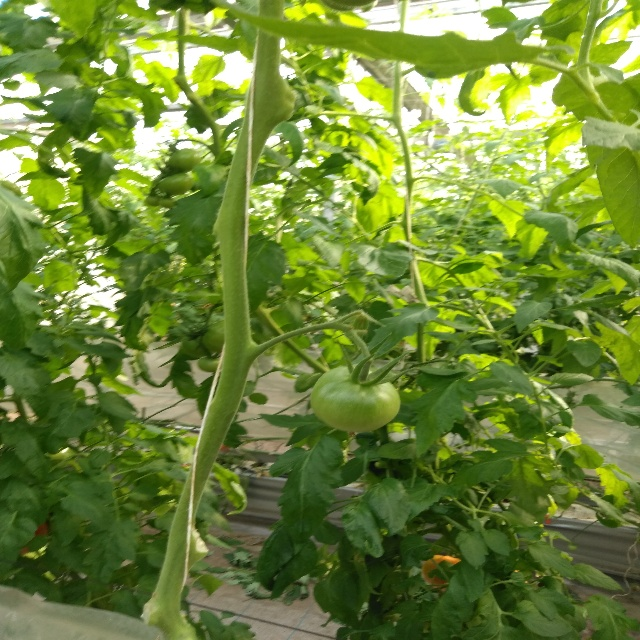b_green: (310, 366, 400, 432), (168, 148, 200, 172), (158, 174, 192, 195)
